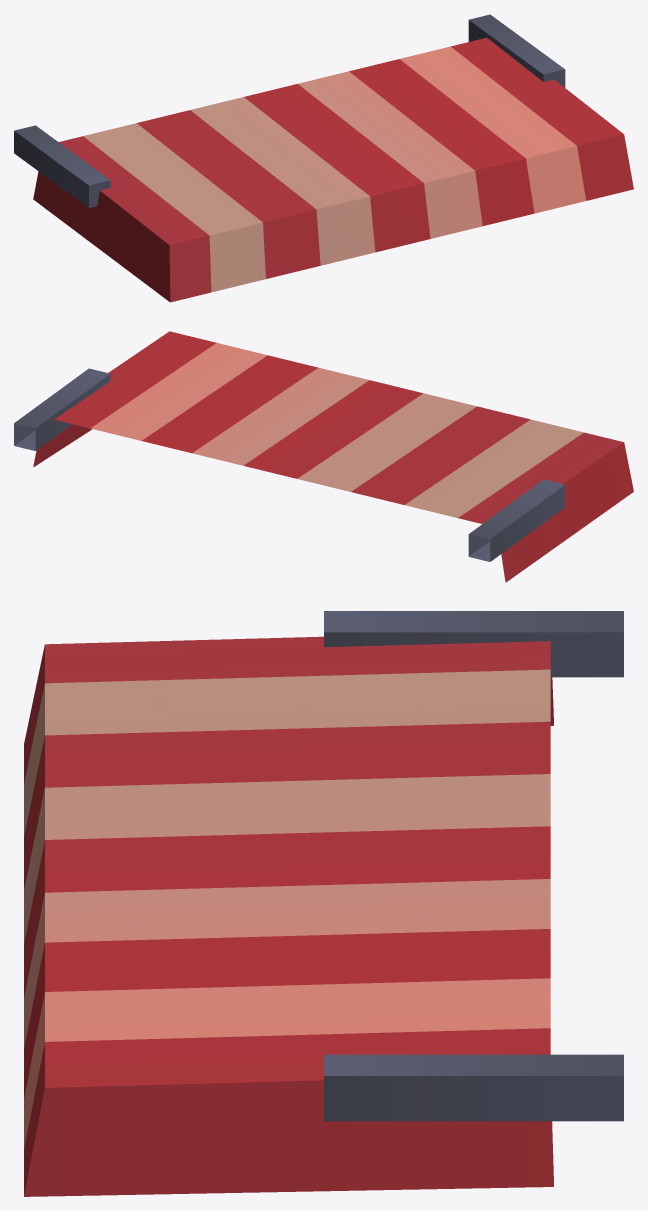
Rendered from SM_Shed_1A.FBX.
The picture shows the model from 3 angles, top to bottom: view 1: azimuth 30°, elevation 25°; view 2: azimuth 150°, elevation 25°; view 3: azimuth 270°, elevation 25°; orthographic projection. The views are drawn at different scales.
Visible parts, largest first — view 1: SM_Shed_1A; view 2: SM_Shed_1A; view 3: SM_Shed_1A.
Part boxes in pixels (box(x1,y1,x2,y2)): SM_Shed_1A: box(14, 14, 633, 302); SM_Shed_1A: box(14, 331, 633, 582); SM_Shed_1A: box(24, 611, 623, 1196).
Size of what is drawn, in the model's own units: 419 by 229 by 53.47.
